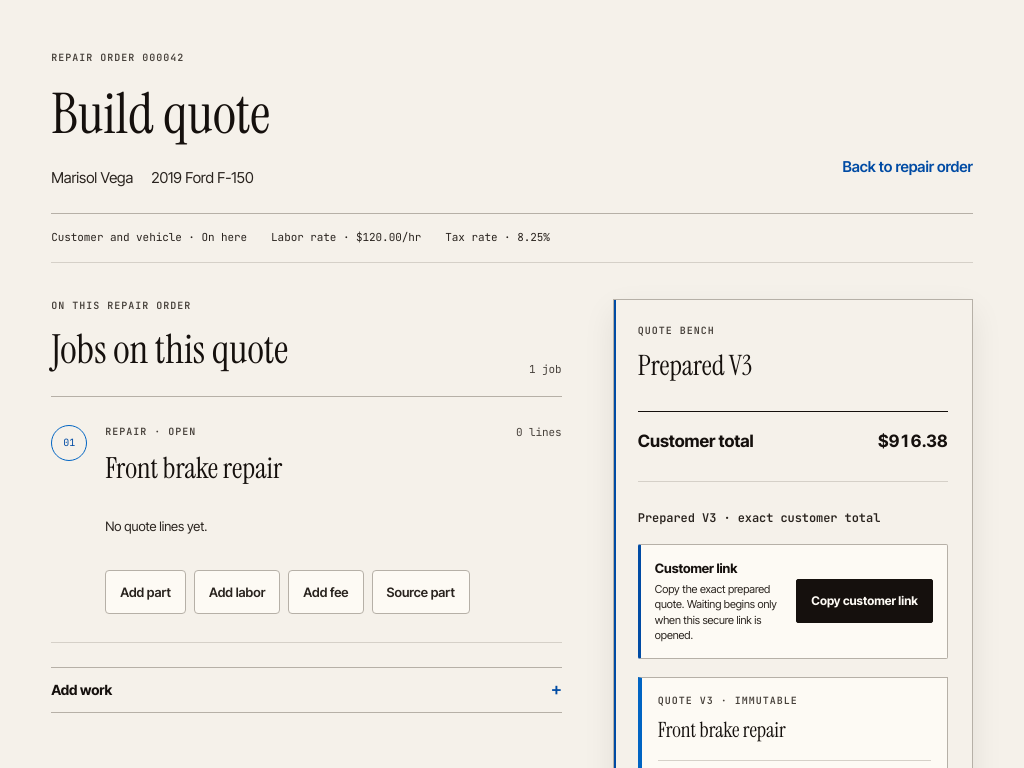
it: Shop OS exact-version approval UI › retries a blocked clipboard without creating or expiring another link
The width and height of the screenshot is (1024, 768).
Click the button "Copy customer link" at (865, 601), box [796,579,933,623]
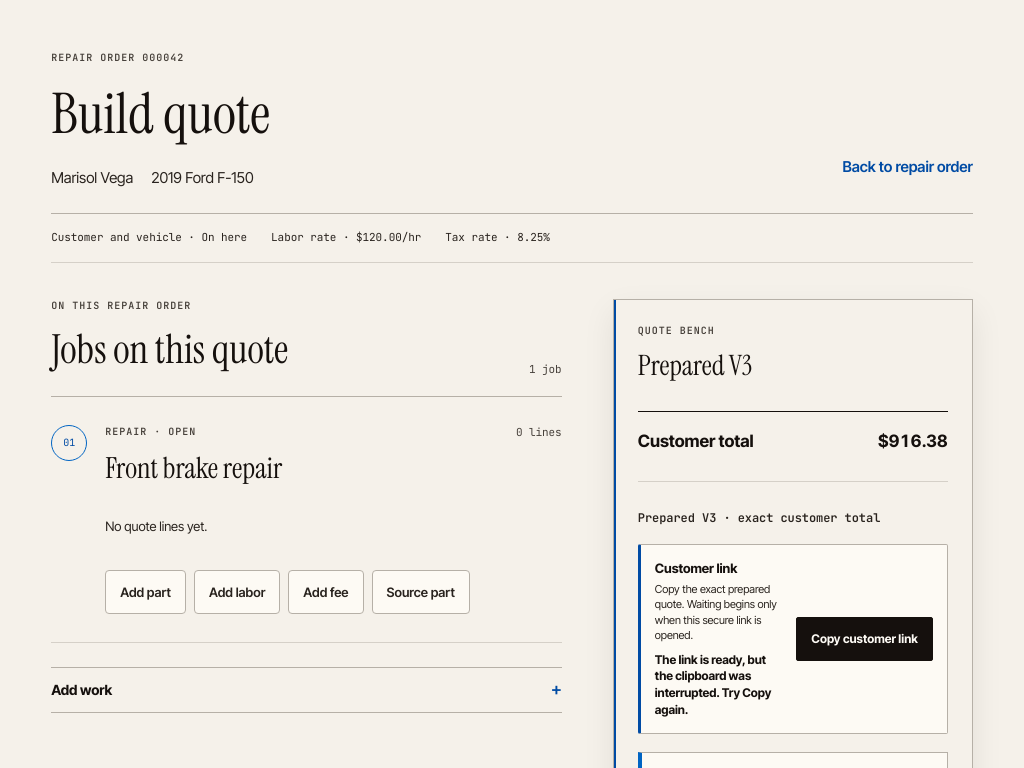
Result: the text "The link is ready, but the clipboard was interrupted. Try Copy again." is shown at [655,652,782,719]
Click the button "Copy customer link" at (865, 639), box [796,617,933,661]
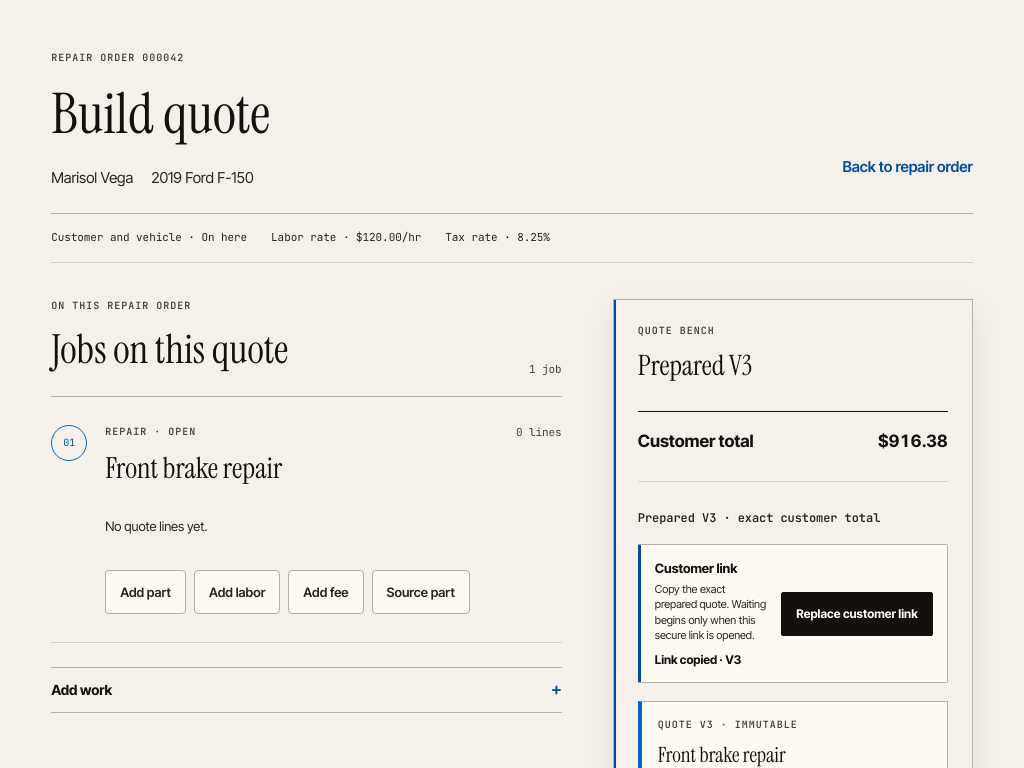
Result: the text "Link copied · V3" is shown at [655,652,741,667]
